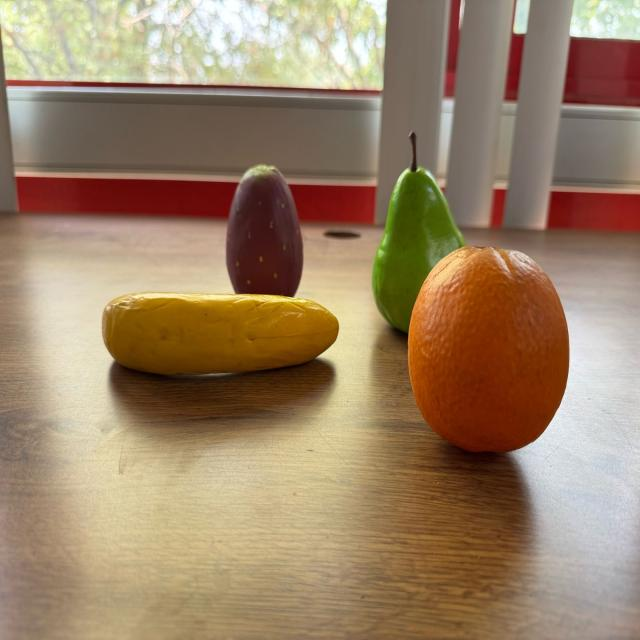banana: (102, 294, 339, 374)
orange: (406, 245, 572, 453)
pear: (371, 137, 467, 333)
tuna: (226, 163, 304, 296)
